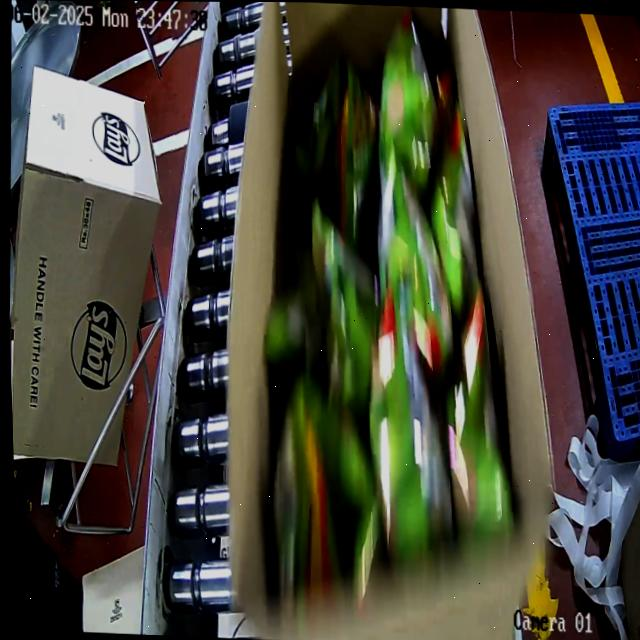YOGURT_HERB: (252, 38, 527, 556)
